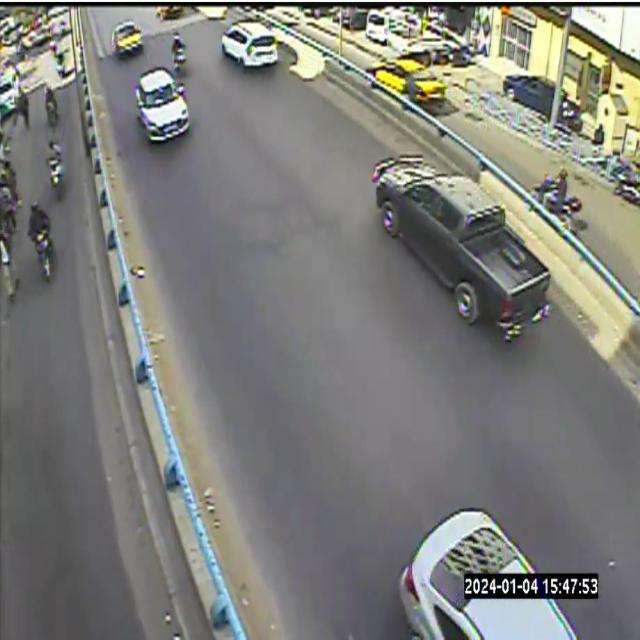car: (365, 140, 551, 350), (372, 154, 550, 340), (373, 156, 550, 340), (220, 18, 280, 72), (503, 75, 554, 119), (503, 75, 554, 117), (558, 90, 582, 132)
